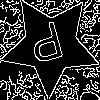P: (26, 20, 69, 74)
